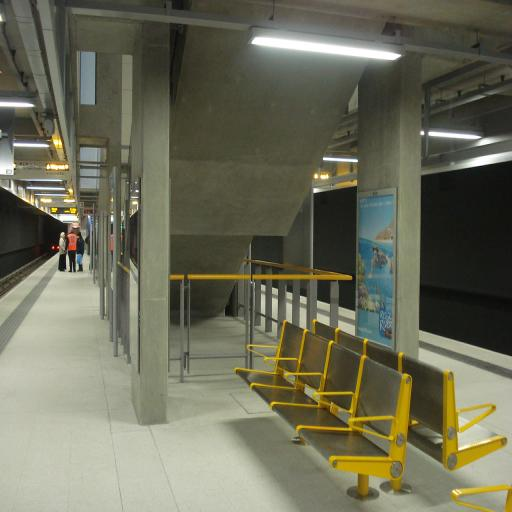platform_edge: (0, 264, 54, 344)
